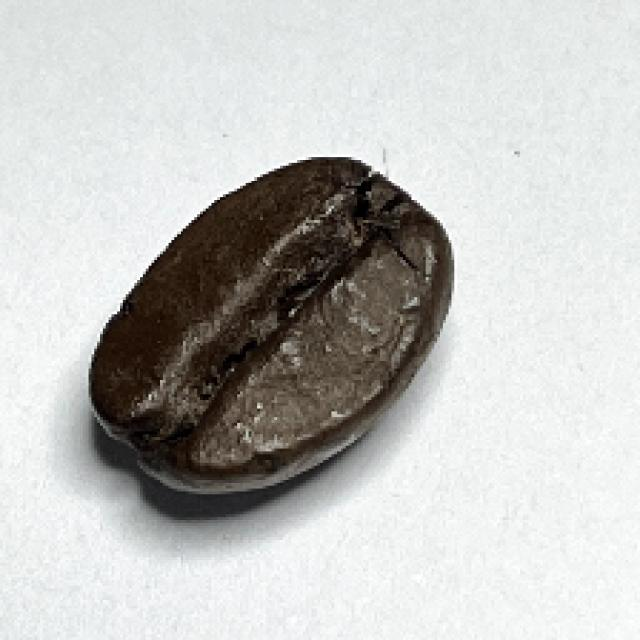bean: (85, 154, 456, 496)
